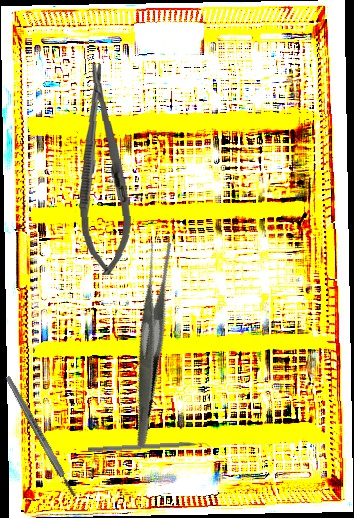Chopper: (87, 440, 214, 459)
Dressing Forceps: (73, 235, 225, 449)
Needle Holder: (70, 61, 136, 277)
Scalpel Handle: (4, 374, 78, 499)
